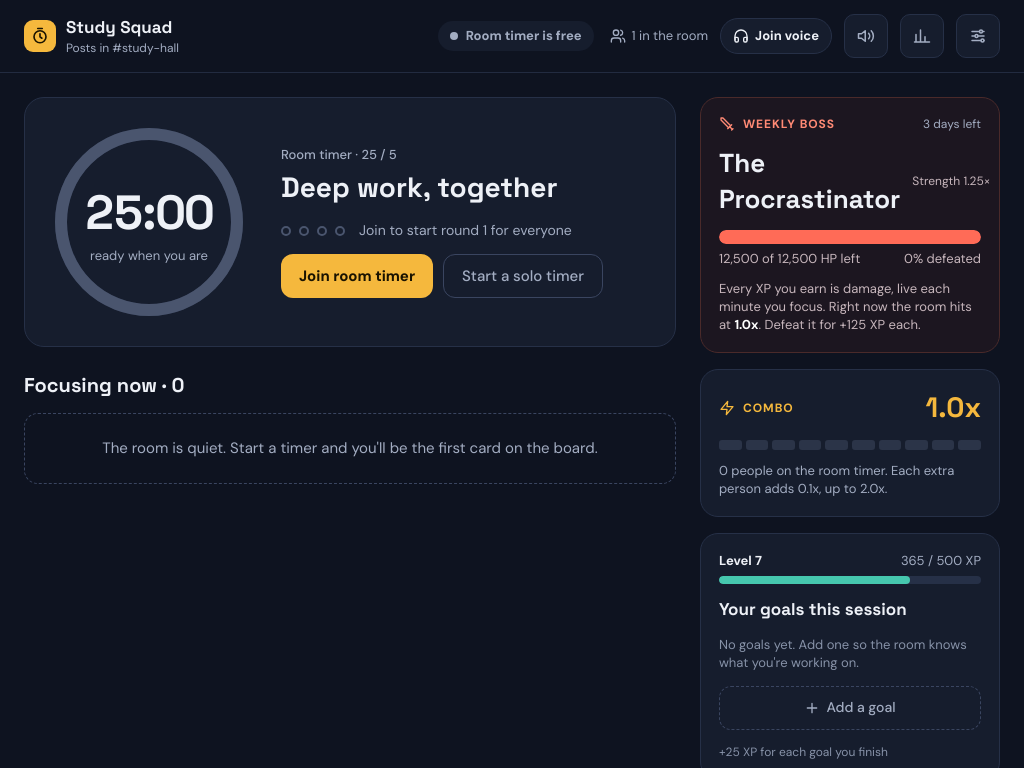
Scenario: Study Squad app › shows server errors without losing the room
This screenshot has width=1024, height=768.
Check: the text "25:00" is shown, box [85, 179, 213, 246]
Click the button "Add a goal".
click(850, 708)  # box [719, 686, 981, 730]
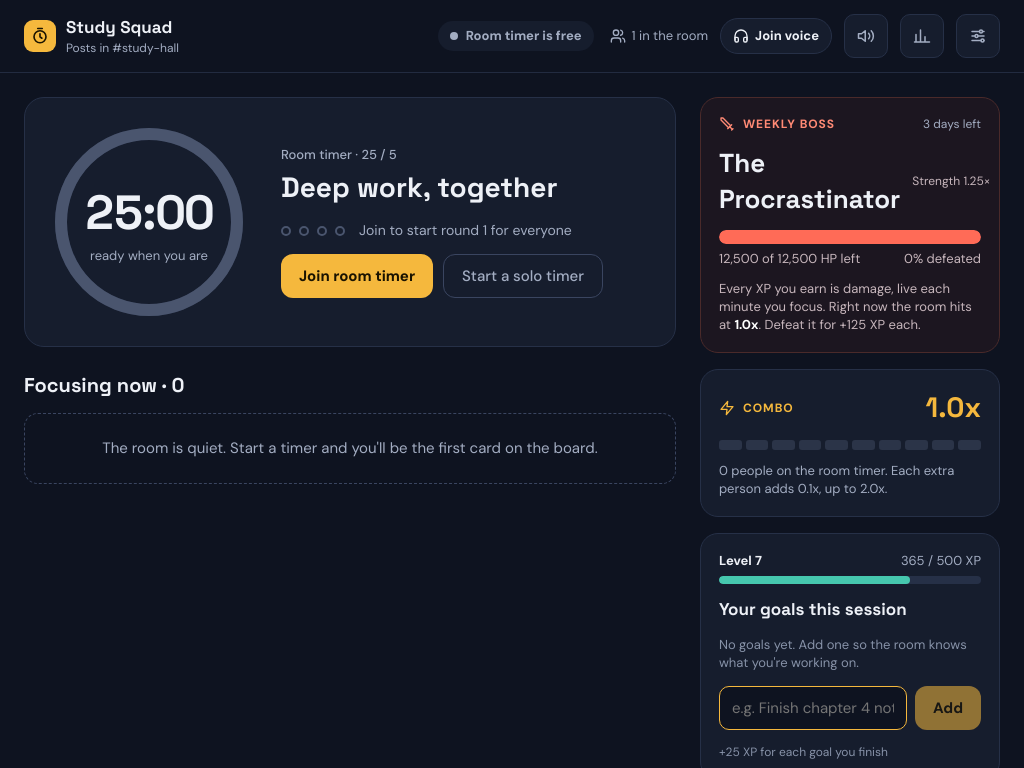
Type "One more" into the field named "New goal".
click(813, 708); type("One more")  # box [719, 686, 907, 730]
Then press Enter
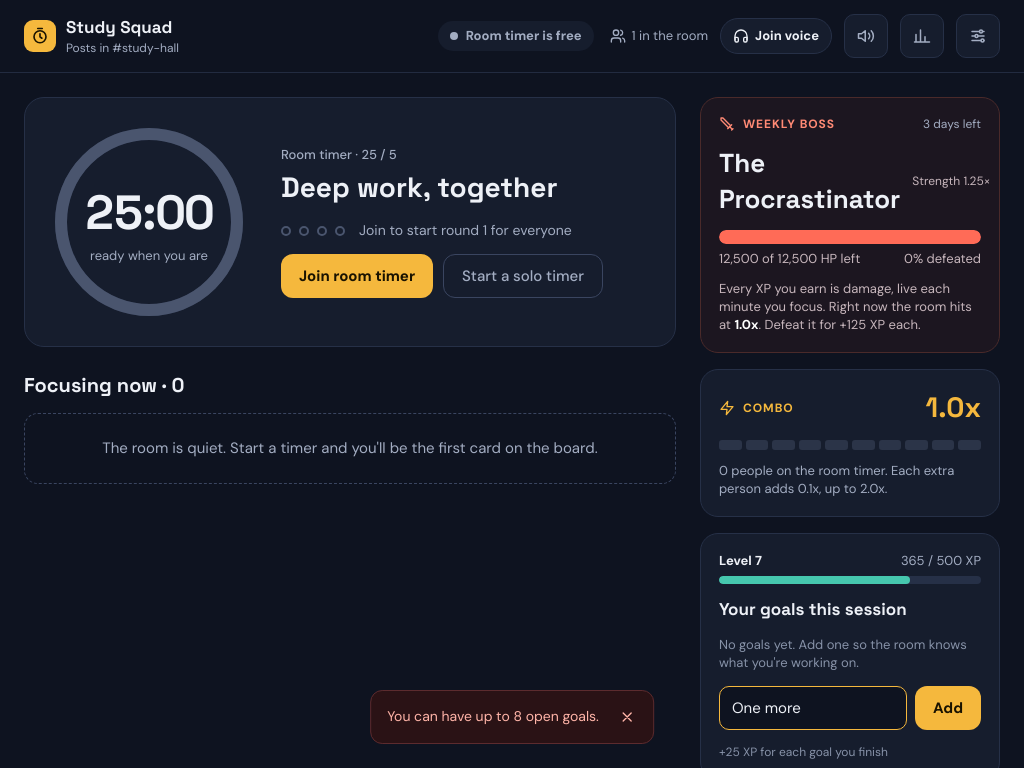
Check: the message reads "You can have up to 8 open goals.", box [387, 707, 599, 725]
Click the button named "Dismiss".
click(627, 717)  # box [611, 701, 643, 733]
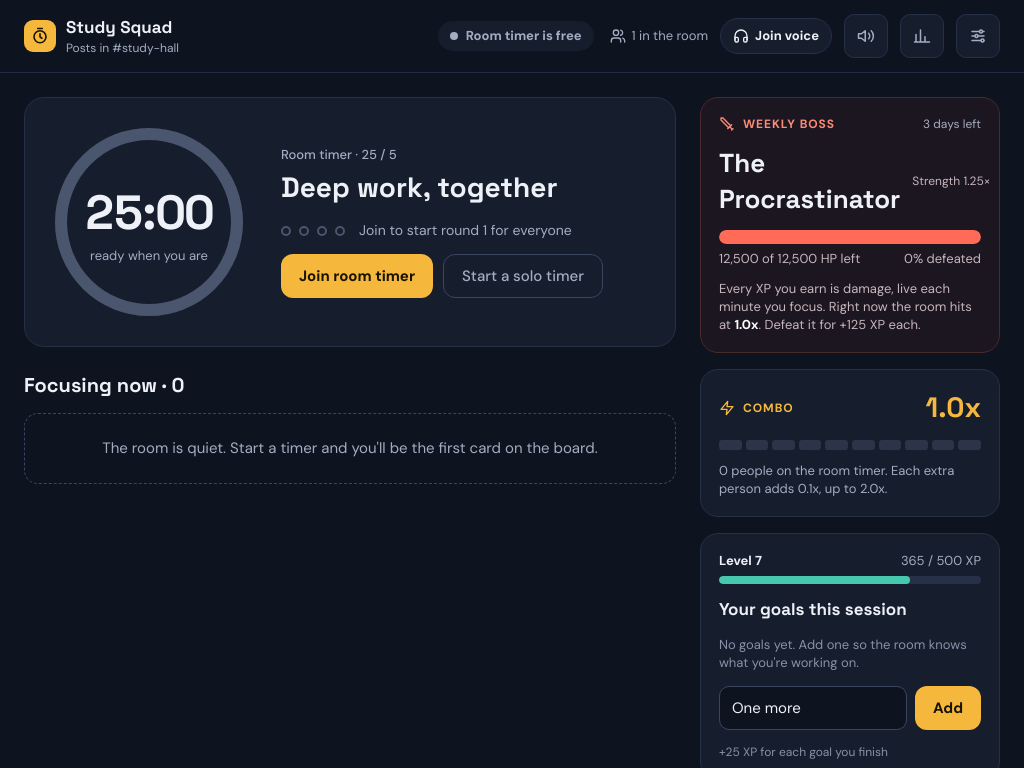
Check: the text "25:00" is shown, box [85, 179, 213, 246]
Check: the message "You can have up to 8 open goals." is gone
